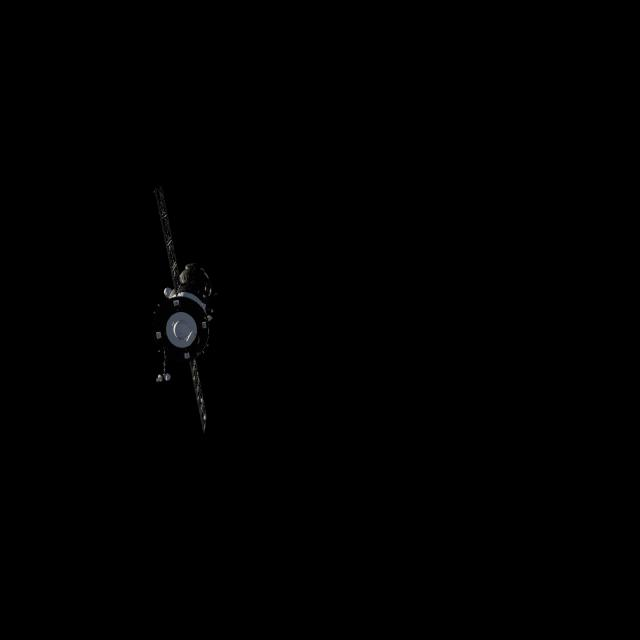Satellites revolving around earth: (148, 185, 218, 435)
